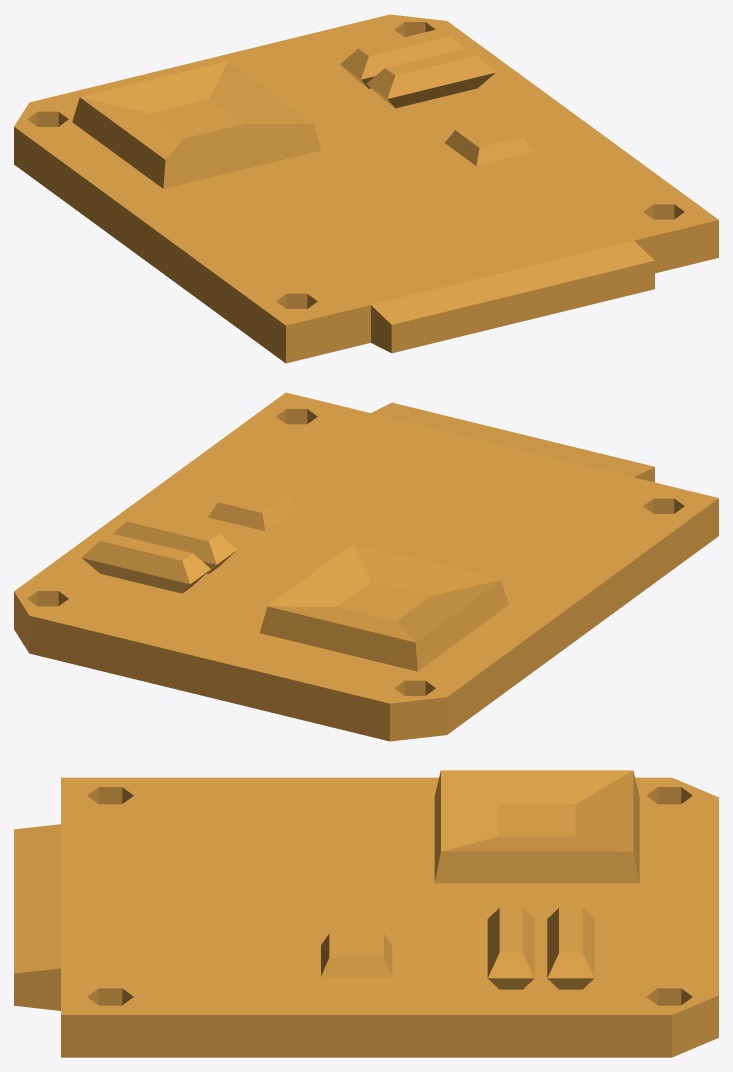
The model's file is printed-circuit.fbx.
3 views of the same model, one above another, from view 1: azimuth 30°, elevation 25°; view 2: azimuth 150°, elevation 25°; view 3: azimuth 270°, elevation 25° (orthographic). The views are drawn at different scales.
Parts seen in each view (by area): view 1: printed-circuit; view 2: printed-circuit; view 3: printed-circuit.
Boxes of the visible parts, x1,y1,x2,y2 form: printed-circuit: (14,14,718,363); printed-circuit: (14,392,718,741); printed-circuit: (14,770,718,1057).
Bounding box in the file's own units: 0.1196 × 0.0187 × 0.15.
